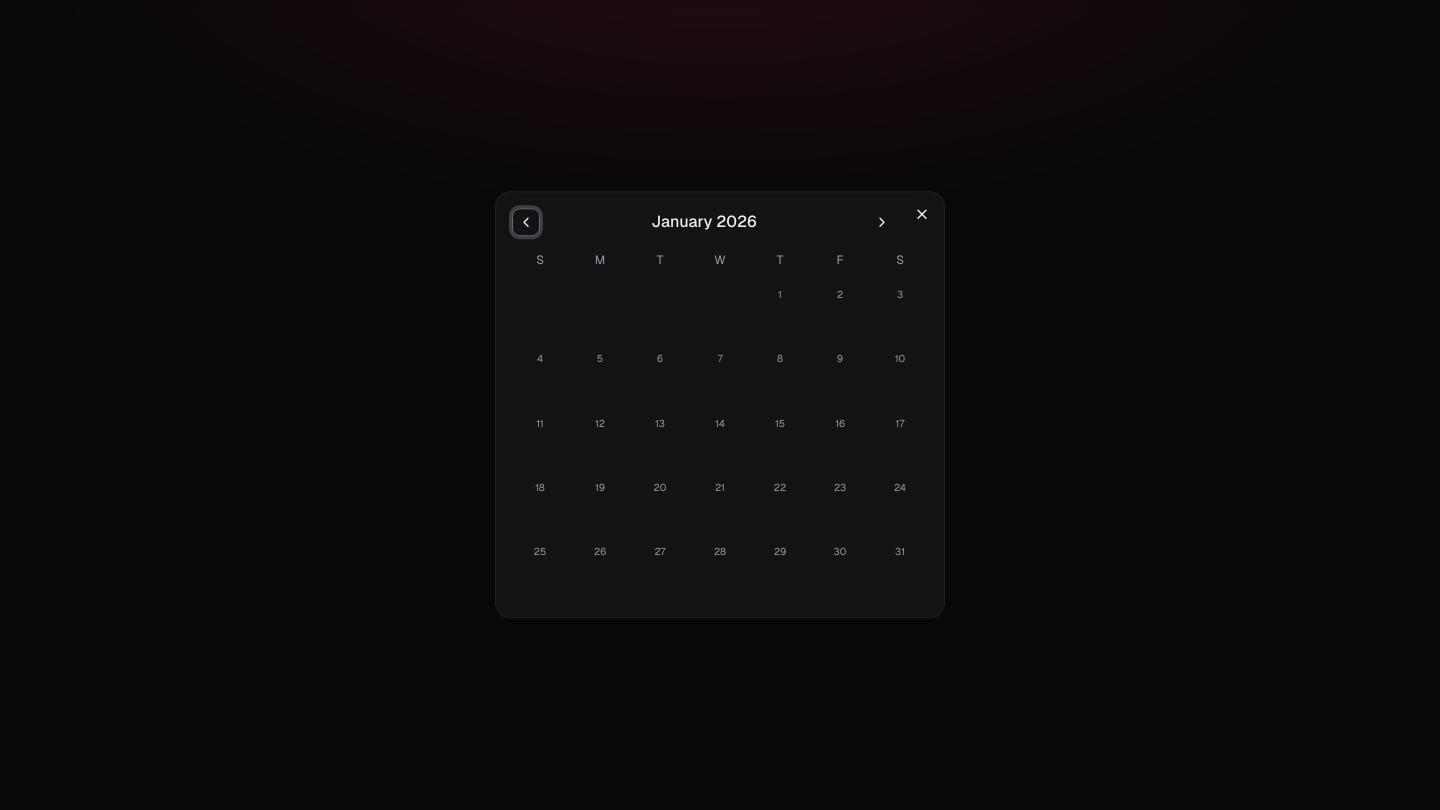
Scenario: SalahCalendarDialog › rolls year over when going to previous month from January
This screenshot has width=1440, height=810.
Expected: the heading "January 2026" is shown, [651,214,757,230]
Click the button named "Previous month".
click(526, 222)  # box [512,208,540,236]
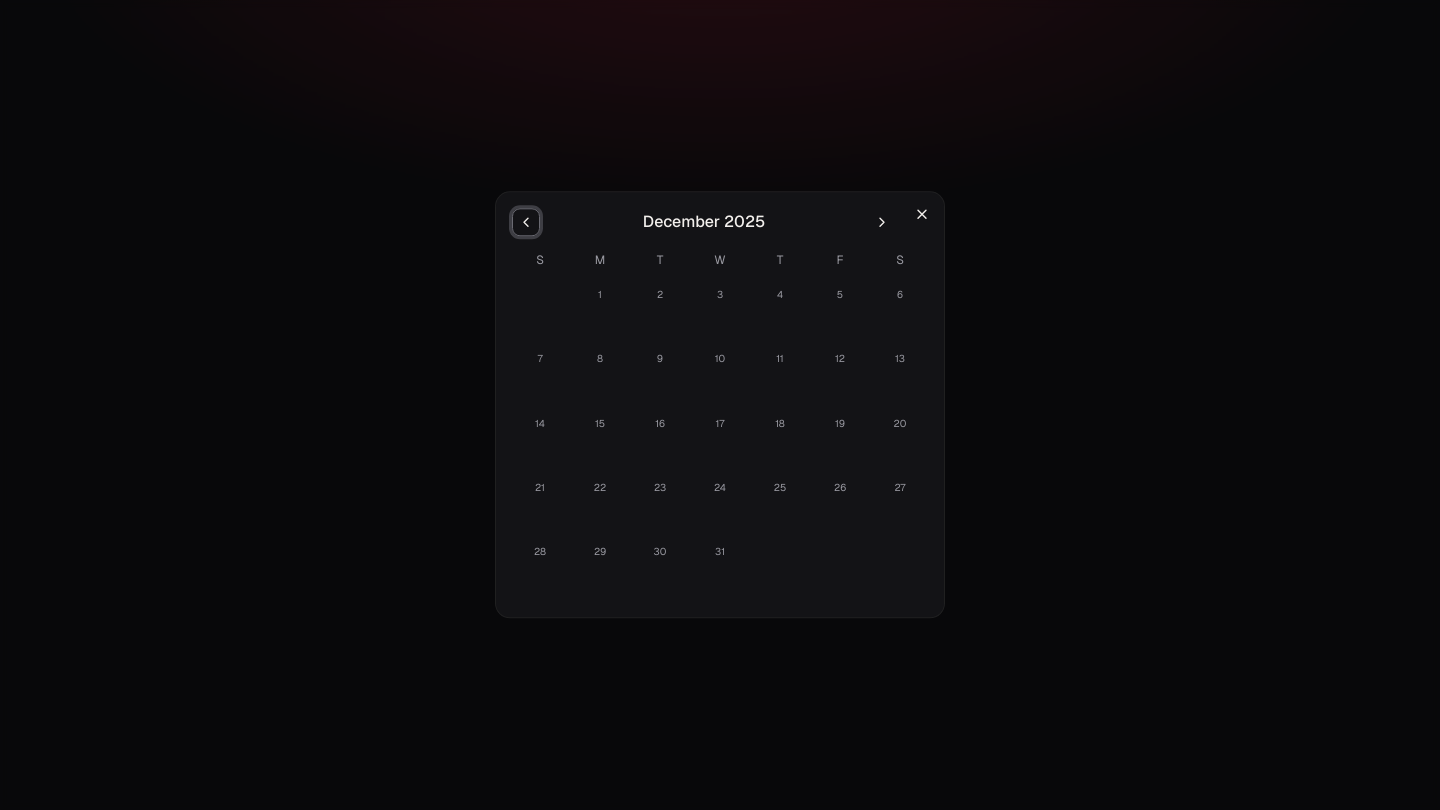
Expected: the heading "December 2025" is shown, [643,214,765,230]
